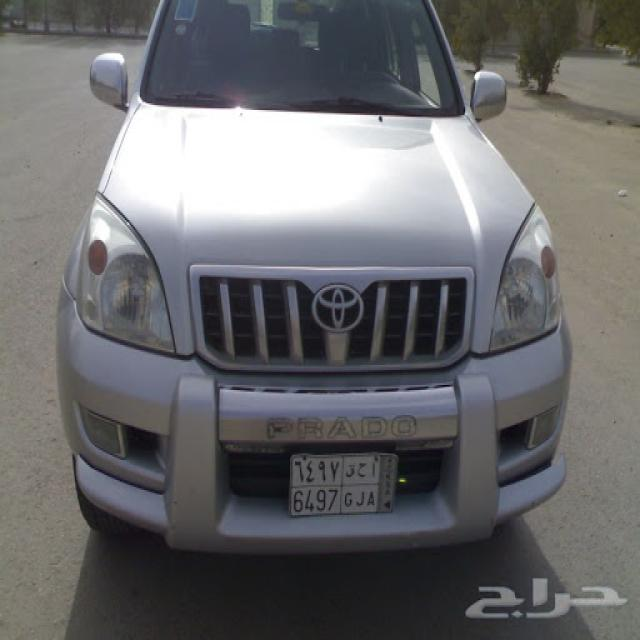license_plate: (286, 450, 400, 520)
